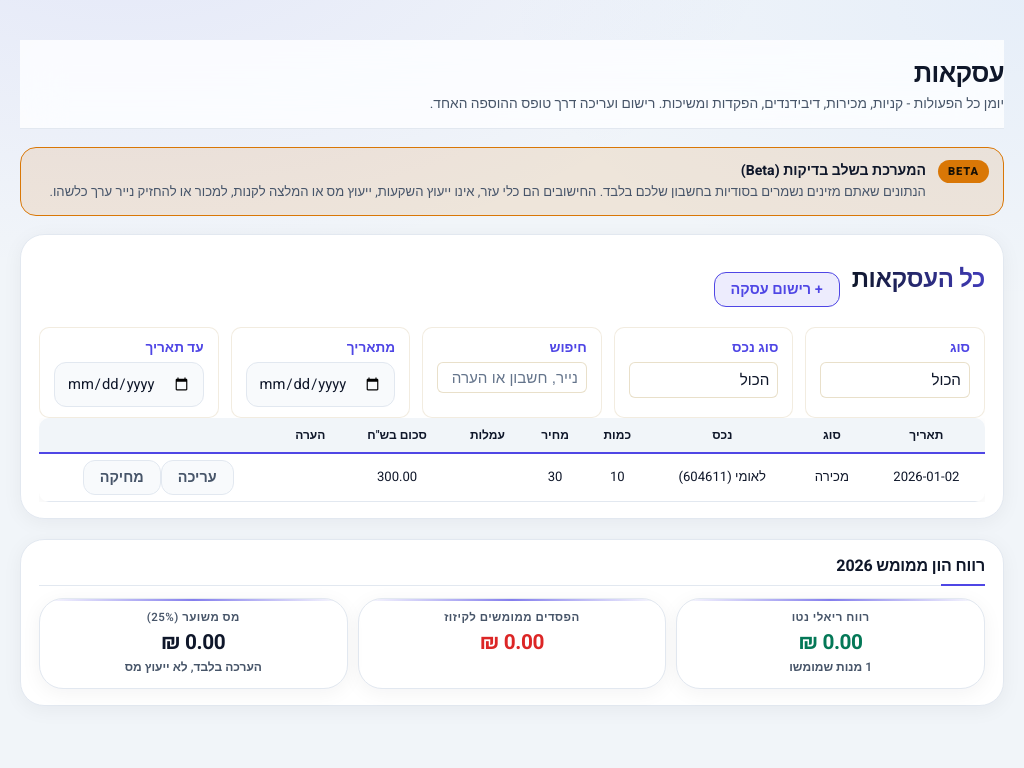
Test: deleting a line asks first and reports the result
What coordinates should you click on to do the following:
click the button "מחיקה"
I would click on:
 (122, 477)
Its box is [83,460,161,495].
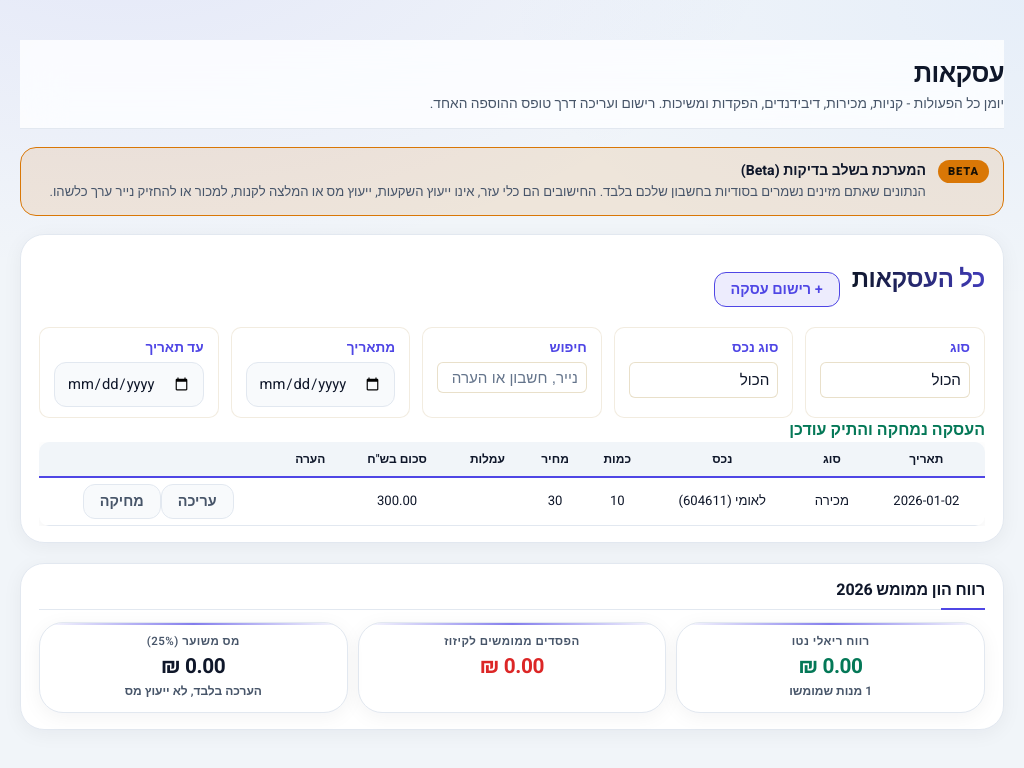
Now the text "העסקה נמחקה והתיק עודכן" is shown, box [789,418,985,442]
